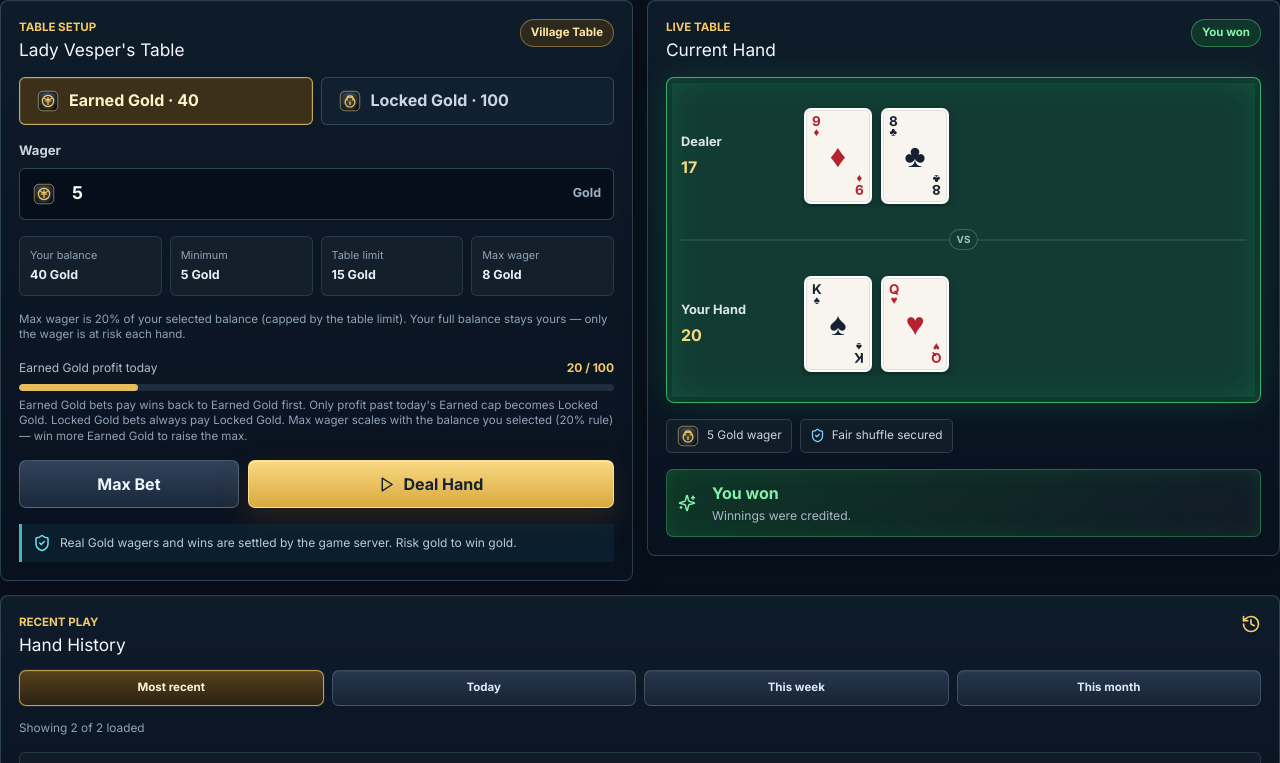
Test case: BlackjackPanel › filters hand history by period tabs
Expected: the text "Showing 2 of 2 loaded" is shown, [19,721,145,735]
Expected: the tab "Most recent" is shown, [19,670,324,706]
Click the tab "Today" at (484, 688), box [332,670,636,706]
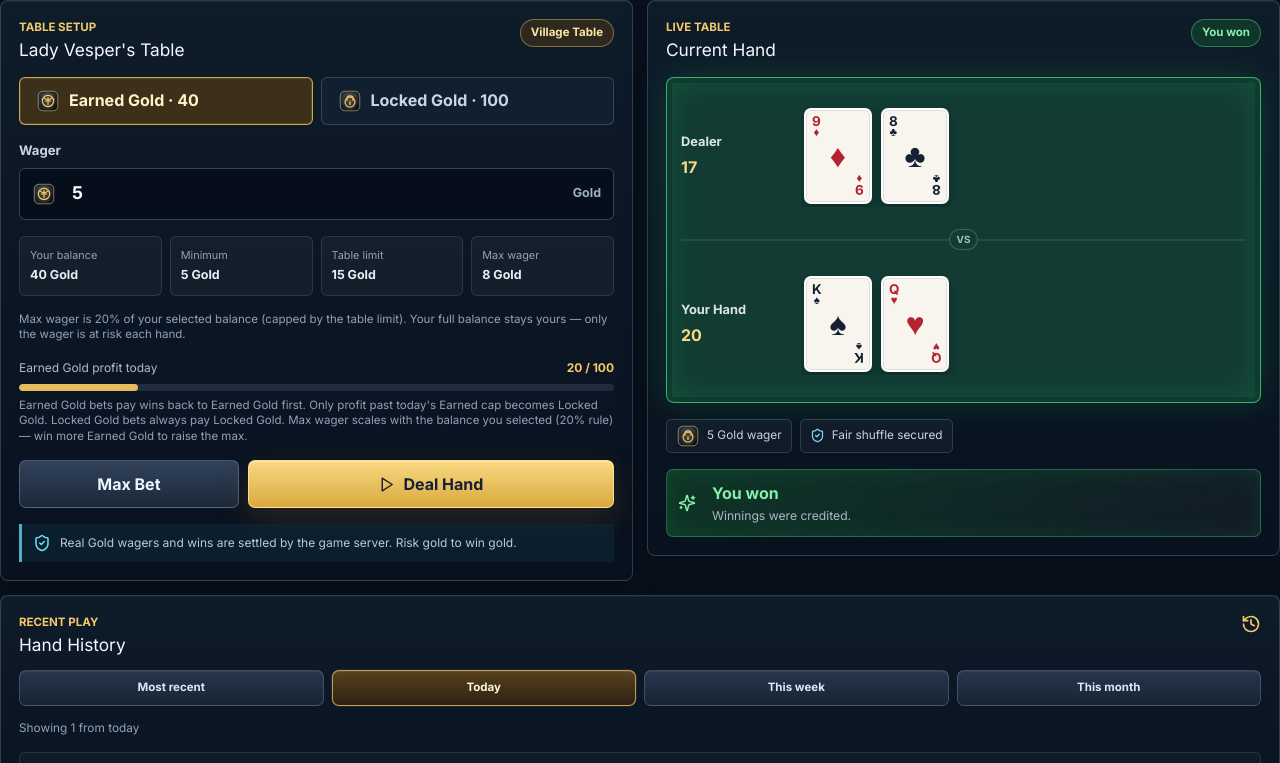
Expected: the text "You won" is shown, [1191,19,1261,47]
Expected: the text "Showing 1 from today" is shown, [19,721,139,735]
Click the tab "This week" at (796, 688), box [644,670,948,706]
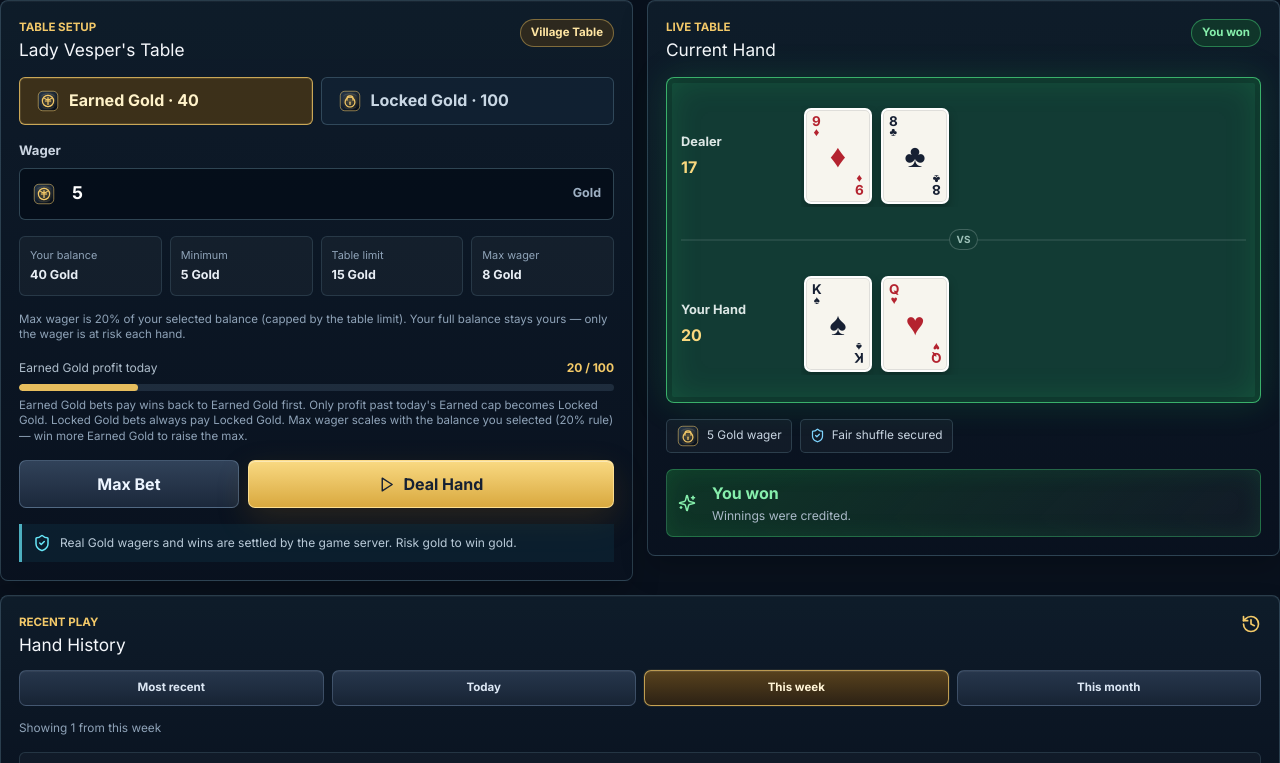
Expected: the text "Showing 1 from this week" is shown, [19,721,161,735]
